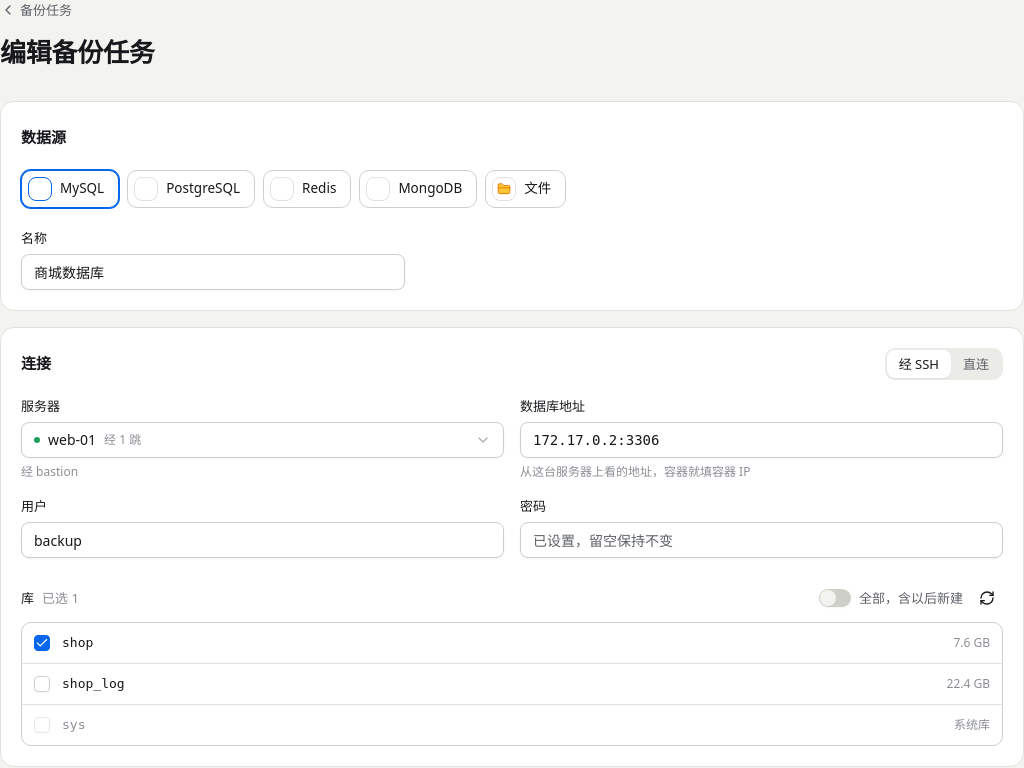
Test: 库勾选 › 系统库显示但不可选；勾选的库进入摘要
The width and height of the screenshot is (1024, 768).
Expected: the checkbox named "sys" is disabled, [34,717,50,733]
Expected: the checkbox named "sys" is not checked, [34,717,50,733]
Click the checkbox named "shop_log" at (42, 684), box [34,676,50,692]
(page scrolled)
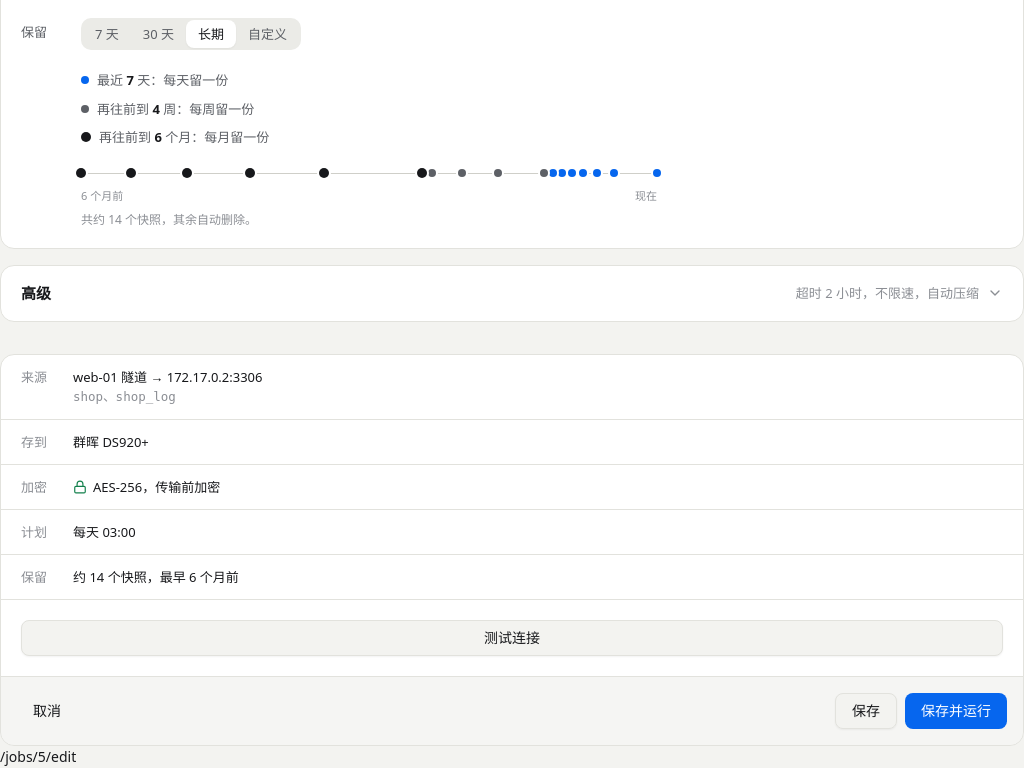
Expected: the element showing "web-01 隧道 → 172.17.0.2:3306 shop、shop_log" is shown, [73,368,262,404]
